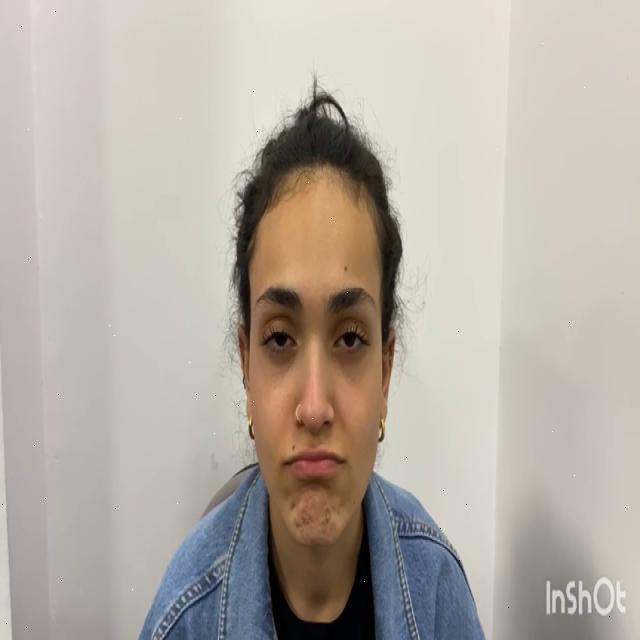natural: (245, 184, 383, 548)
